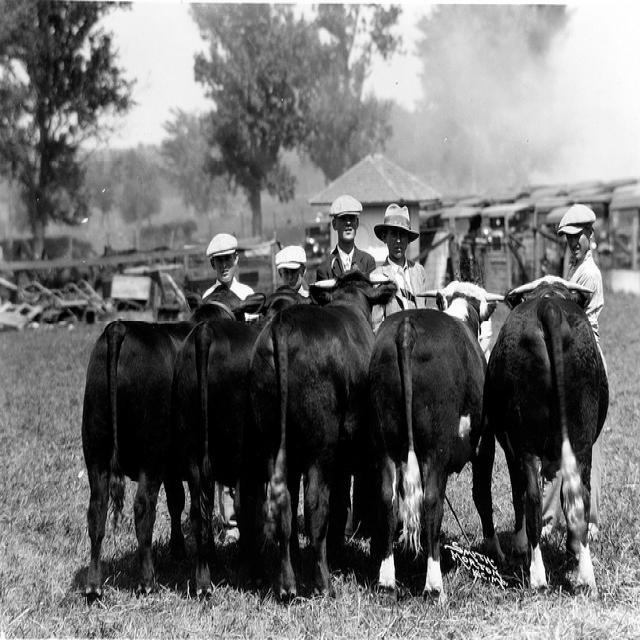cow: (79, 284, 265, 600), (249, 261, 395, 602), (368, 274, 505, 600), (167, 292, 310, 602), (481, 270, 608, 601)
